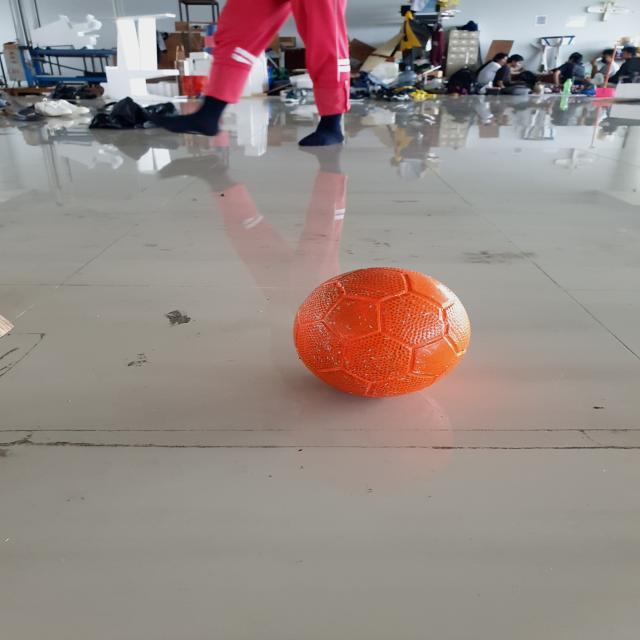bola: (292, 264, 480, 409)
